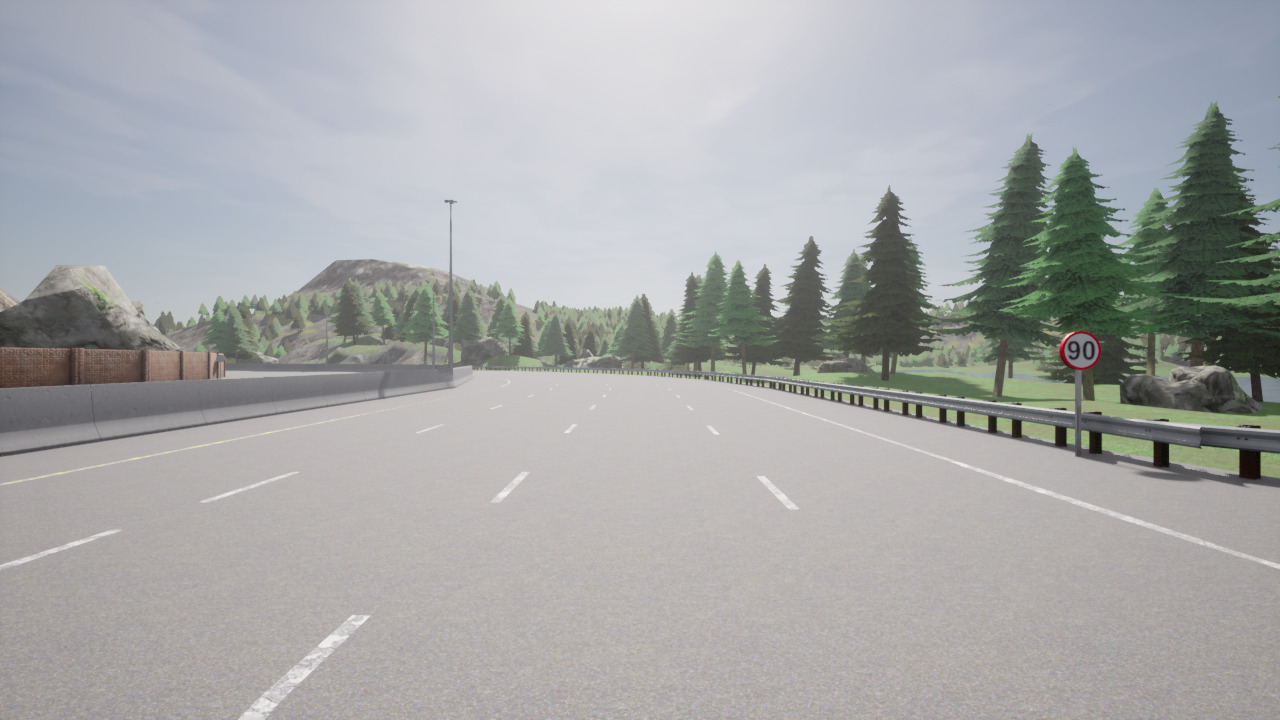sl90: (1057, 329, 1103, 371)
